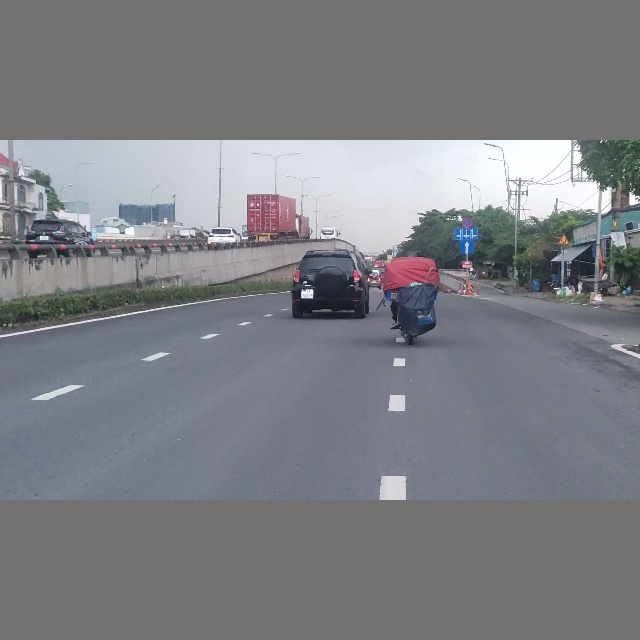I.407a: (460, 240, 475, 254)
P.130: (462, 217, 473, 228)
W.246a: (558, 234, 569, 244)
